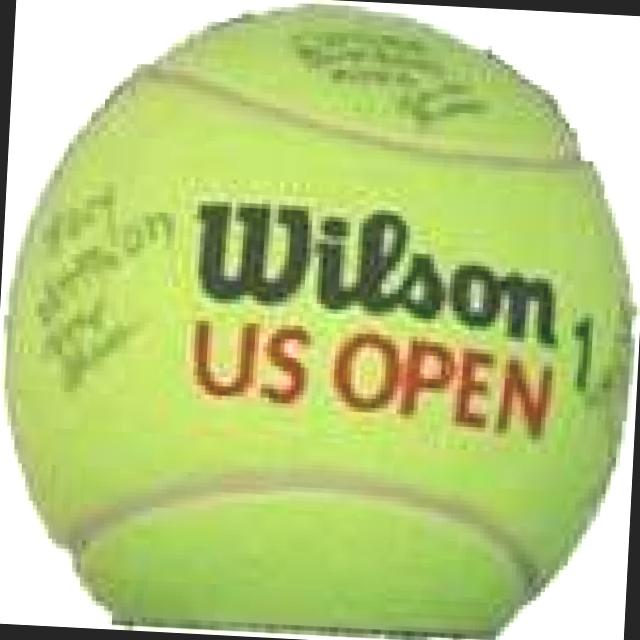Tennis Ball: (0, 3, 637, 640)
